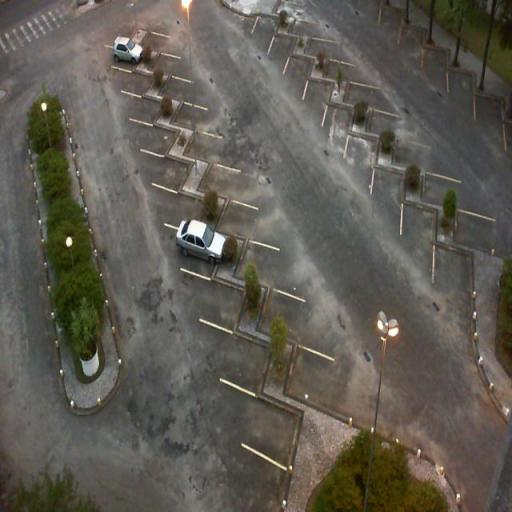Slot-empty: (211, 374, 315, 482), (262, 276, 348, 368), (195, 313, 280, 399), (173, 260, 256, 342), (285, 335, 351, 423), (244, 236, 324, 308), (225, 188, 294, 258), (425, 236, 482, 306), (148, 176, 215, 235), (183, 123, 255, 175), (208, 155, 270, 213), (178, 92, 244, 146), (136, 138, 196, 196), (398, 193, 442, 270), (131, 104, 187, 162), (347, 117, 385, 193), (118, 81, 172, 132), (370, 158, 408, 228), (165, 63, 216, 115), (320, 92, 358, 159), (108, 56, 158, 105), (302, 69, 336, 130), (286, 51, 321, 105), (154, 50, 203, 87), (246, 6, 282, 52), (271, 26, 296, 76)
Slot-occupied: (165, 216, 241, 283)
